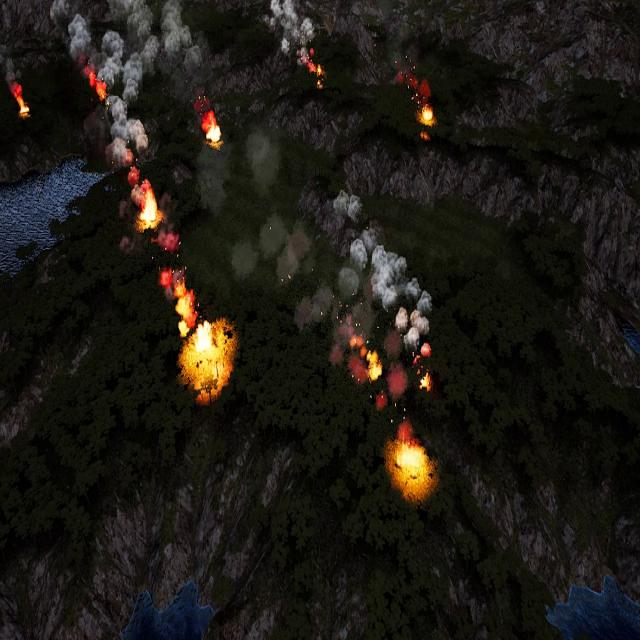fire: (184, 318, 232, 395), (396, 438, 430, 490), (139, 189, 158, 229), (202, 112, 222, 146), (88, 70, 108, 104), (12, 83, 29, 118), (364, 350, 380, 382), (310, 59, 324, 88), (419, 373, 432, 392), (421, 106, 433, 125)
smoke: (230, 144, 432, 437), (48, 0, 200, 191), (260, 210, 308, 287), (153, 226, 189, 326), (265, 0, 313, 67), (246, 128, 278, 192), (394, 62, 431, 103), (0, 48, 20, 98)
